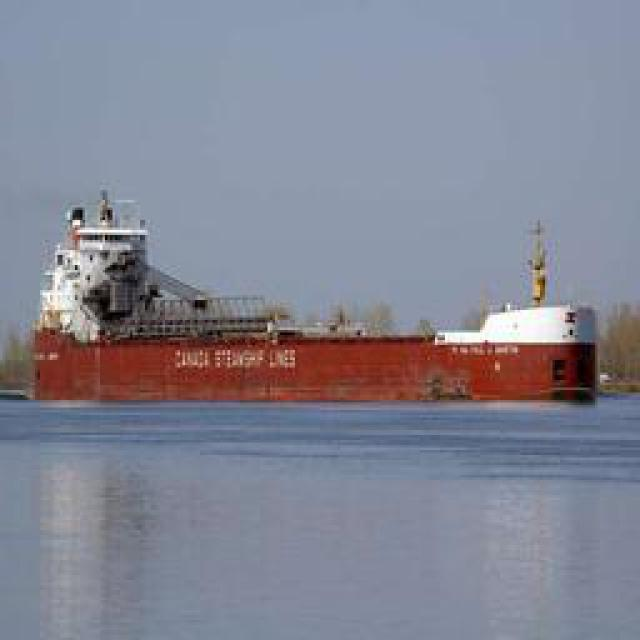Ship: (27, 191, 595, 429)
